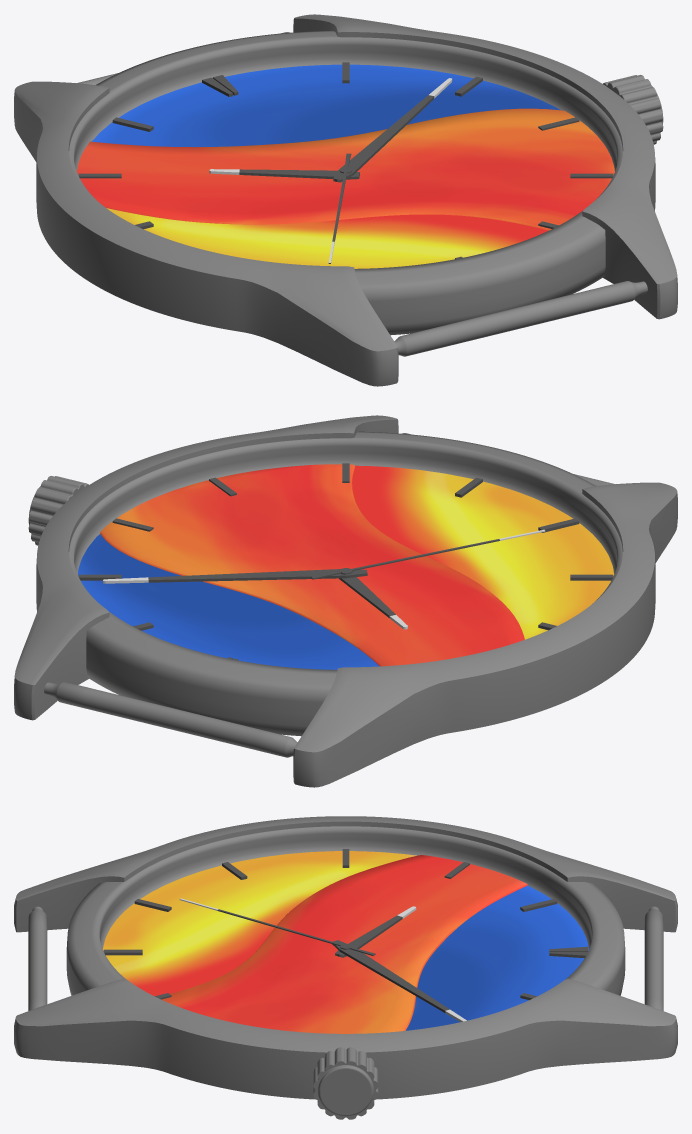
Rendered from FirstWatch7.gltf.
3 views of the same model, one above another, from view 1: azimuth 30°, elevation 25°; view 2: azimuth 150°, elevation 25°; view 3: azimuth 270°, elevation 25° (orthographic). The views are drawn at different scales.
Parts seen in each view (by area): view 1: Case 1, Dial Wave, Dial 1, Case 2, Markings, Wheel, Big Hand, Small Hand; view 2: Case 1, Dial Wave, Dial 1, Case 2, Markings, Big Hand, Wheel, Second-Hand, Small Hand; view 3: Case 1, Dial 1, Dial Wave, Case 2, Wheel, Markings, Big Hand, Small Hand, Second-Hand.
Part boxes in pixels (x1=…): Case 1: x1=14, y1=14, x2=677, y2=386; Dial Wave: x1=77, y1=108, x2=614, y2=230; Dial 1: x1=92, y1=64, x2=560, y2=268; Case 2: x1=69, y1=30, x2=622, y2=335; Markings: x1=78, y1=62, x2=613, y2=259; Wheel: x1=603, y1=75, x2=663, y2=144; Big Hand: x1=333, y1=78, x2=452, y2=182; Small Hand: x1=209, y1=169, x2=359, y2=179; Case 1: x1=14, y1=415, x2=677, y2=787; Dial Wave: x1=100, y1=464, x2=524, y2=666; Dial 1: x1=78, y1=465, x2=614, y2=669; Case 2: x1=69, y1=431, x2=622, y2=736; Markings: x1=78, y1=463, x2=613, y2=660; Big Hand: x1=103, y1=569, x2=367, y2=583; Wheel: x1=28, y1=476, x2=88, y2=545; Second-Hand: x1=311, y1=529, x2=545, y2=579; Small Hand: x1=339, y1=577, x2=407, y2=629; Case 1: x1=14, y1=816, x2=677, y2=1099; Dial 1: x1=103, y1=851, x2=588, y2=1030; Dial Wave: x1=161, y1=855, x2=527, y2=1033; Case 2: x1=66, y1=826, x2=625, y2=995; Wheel: x1=313, y1=1047, x2=378, y2=1119; Markings: x1=103, y1=849, x2=588, y2=1000; Big Hand: x1=332, y1=940, x2=466, y2=1021; Small Hand: x1=335, y1=906, x2=416, y2=957; Second-Hand: x1=179, y1=898, x2=375, y2=955.
Bounding box in the file's own units: 0.108 × 0.0127 × 0.1201.
Materials: 5 (2 with a texture image).
